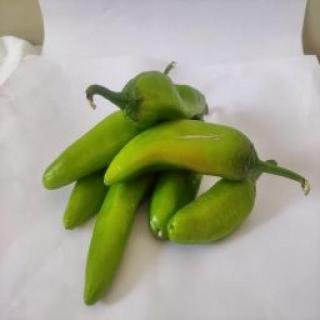Cabai Hijau: (101, 118, 315, 199)
